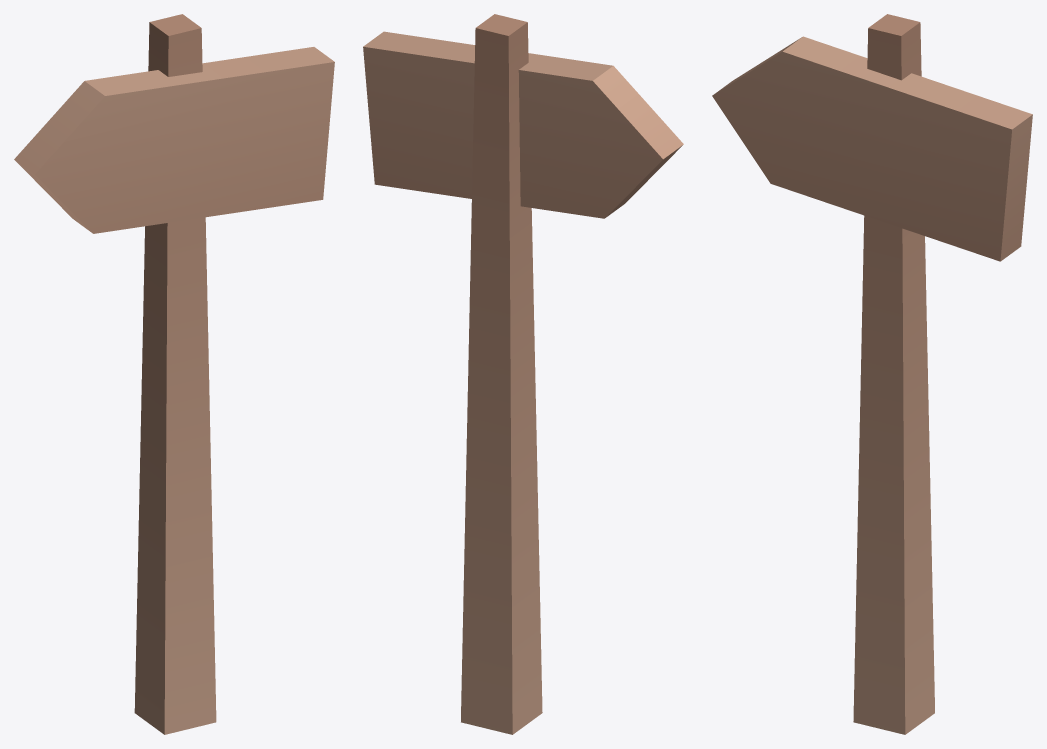
The model's file is signpost-single.glb.
The picture shows the model from 3 angles, left to right: view 1: azimuth 30°, elevation 25°; view 2: azimuth 150°, elevation 25°; view 3: azimuth 330°, elevation 25°; orthographic projection.
Visible parts, largest first — view 1: signpost-single; view 2: signpost-single; view 3: signpost-single.
Boxes of the visible parts, left/top/right/bottom form: signpost-single: left=14, top=14, right=334, bottom=734; signpost-single: left=363, top=14, right=683, bottom=734; signpost-single: left=712, top=14, right=1032, bottom=734.
Size of the model in its own units: 0.2086 by 0.4601 by 0.043.
